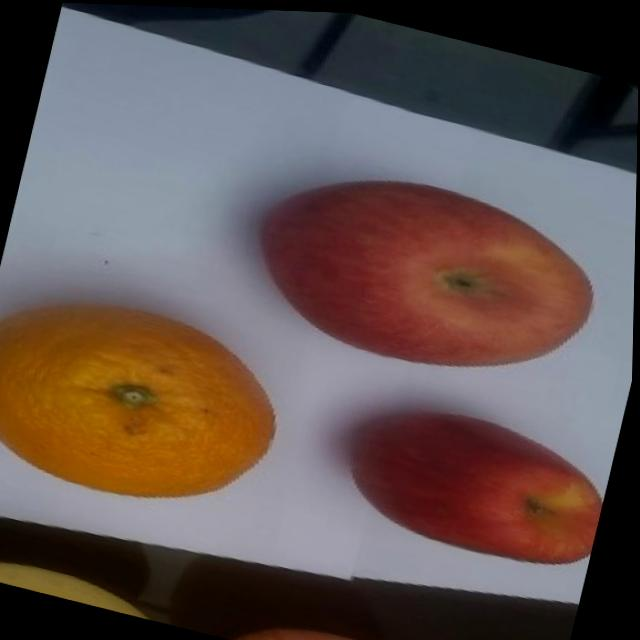Apple: (239, 145, 612, 400), (335, 387, 616, 577), (233, 607, 452, 640)
Orange: (0, 274, 296, 530)
